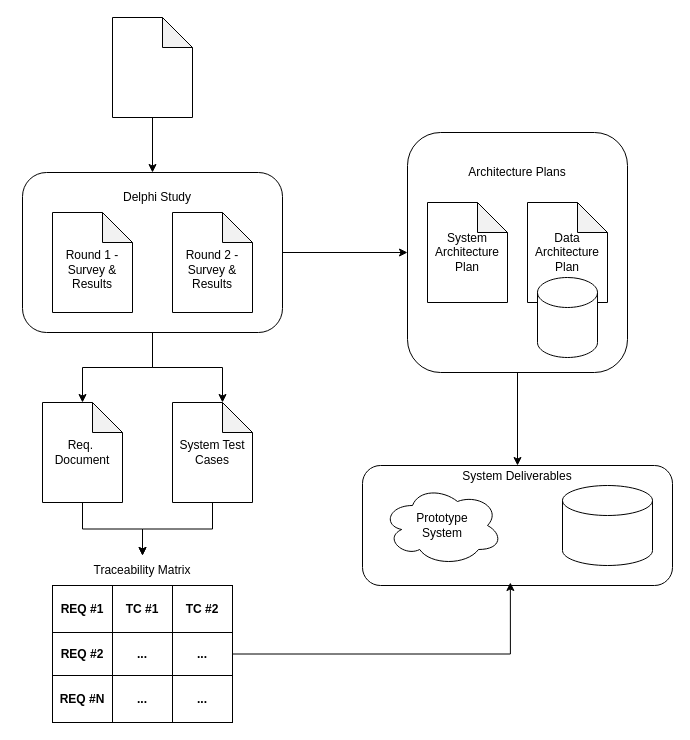
The diagram is 690 pixels wide and 740 high, and some of its shapes have lost their labels. Here are the shapes that lost their labels. From the top down, the box of each, then its label:
(112, 16, 192, 118): Literature Review
(536, 276, 598, 358): Schemas
(562, 484, 652, 566): Evaluation Results
